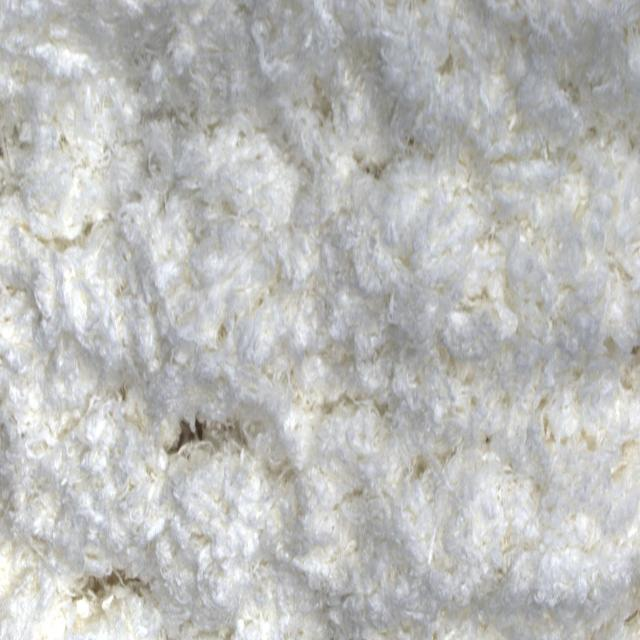dust: (173, 401, 213, 459)
